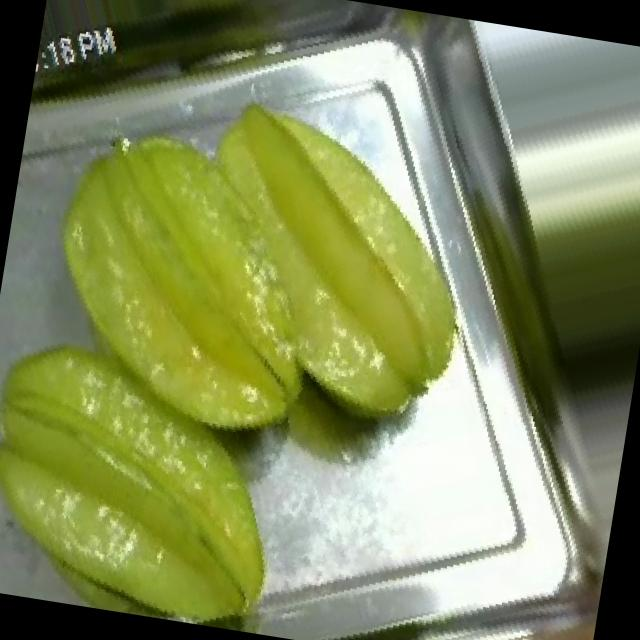fruit: (0, 0, 518, 584), (0, 287, 361, 640), (453, 34, 640, 417)
